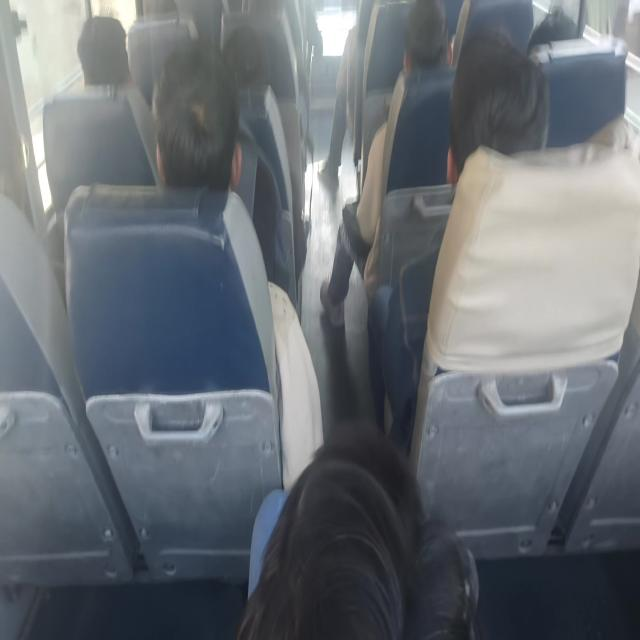person: (242, 429, 481, 640), (148, 51, 242, 191), (451, 43, 527, 183), (76, 10, 130, 94), (213, 24, 269, 99), (397, 12, 450, 90), (0, 105, 29, 222), (526, 4, 582, 44)
